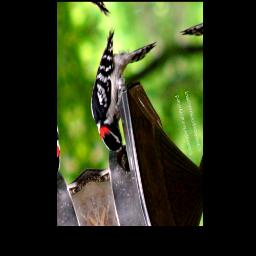Woodpecker: (74, 10, 180, 165)
